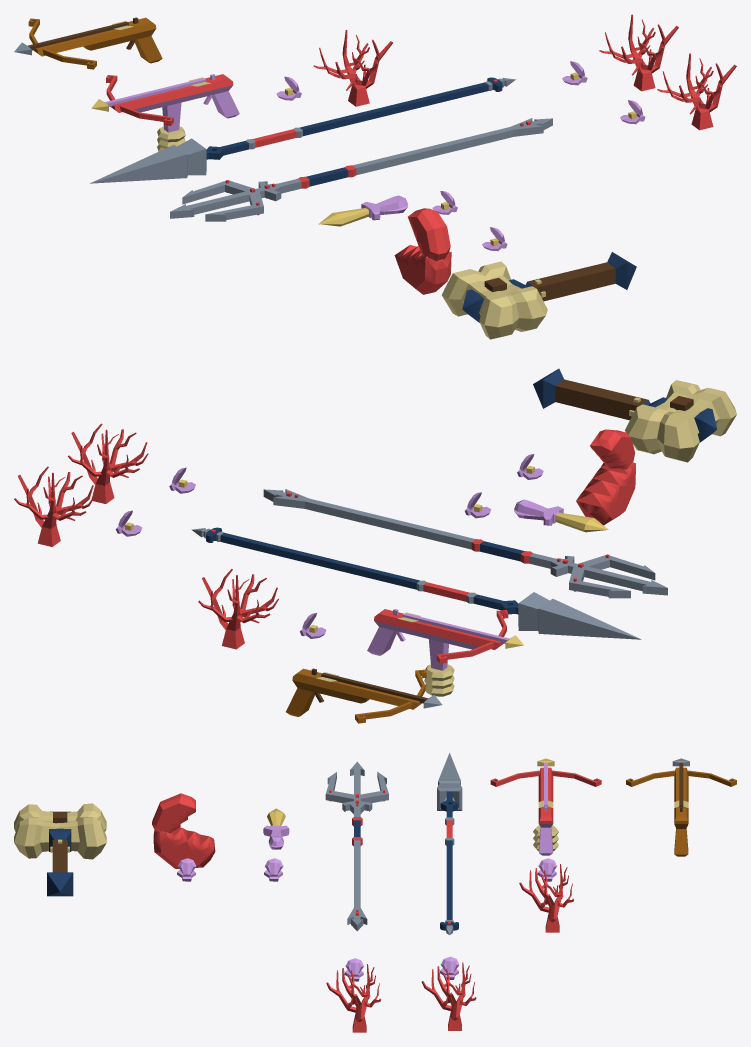
File: wapensXpV1.fbx
3 views of the same model, one above another, from view 1: azimuth 30°, elevation 25°; view 2: azimuth 150°, elevation 25°; view 3: azimuth 270°, elevation 25° (orthographic). The views are drawn at different scales.
Visible parts, largest first — view 1: wapen_hamer, wapen_trident, wapen_speer, wapen_harpoen, wapen_kruisboog, wapen_krabhandschoenen, collectable_koraal1, collectable_koraal2, collectable_koraal, wapen_dolk; view 2: wapen_hamer, wapen_trident, wapen_speer, wapen_harpoen, wapen_kruisboog, wapen_krabhandschoenen, collectable_koraal2, collectable_koraal1, collectable_koraal, wapen_dolk; view 3: wapen_hamer, wapen_krabhandschoenen, wapen_trident, wapen_harpoen, wapen_speer, wapen_kruisboog, collectable_koraal2, collectable_koraal1, collectable_koraal, wapen_dolk.
Boxes of the visible parts, box(x1,y1,x2,y2) form: wapen_hamer: box(442, 252, 636, 339); wapen_trident: box(170, 118, 552, 221); wapen_speer: box(90, 77, 515, 183); wapen_harpoen: box(91, 74, 239, 151); wapen_kruisboog: box(14, 17, 162, 69); wapen_krabhandschoenen: box(394, 208, 451, 294); collectable_koraal1: box(657, 53, 736, 130); collectable_koraal2: box(599, 14, 678, 91); collectable_koraal: box(313, 30, 392, 106); wapen_dolk: box(319, 195, 408, 226); wapen_hamer: box(533, 368, 736, 462); wapen_trident: box(263, 489, 667, 598); wapen_speer: box(191, 527, 641, 639); wapen_harpoen: box(367, 609, 523, 696); wapen_kruisboog: box(286, 668, 442, 723); wapen_krabhandschoenen: box(576, 429, 635, 525); collectable_koraal2: box(14, 466, 94, 546); collectable_koraal1: box(68, 423, 148, 503); collectable_koraal: box(198, 569, 278, 649); wapen_dolk: box(514, 499, 608, 532); wapen_hamer: box(14, 803, 106, 896); wapen_krabhandschoenen: box(152, 793, 215, 868); wapen_trident: box(325, 761, 388, 931); wapen_harpoen: box(490, 758, 601, 855); wapen_speer: box(437, 753, 462, 934); wapen_kruisboog: box(626, 758, 736, 856); collectable_koraal2: box(421, 962, 476, 1030); collectable_koraal1: box(326, 964, 380, 1032); collectable_koraal: box(519, 864, 573, 932); wapen_dolk: box(263, 808, 289, 849).
Size of the model in its own units: 41.83 by 5.61 by 50.26.
